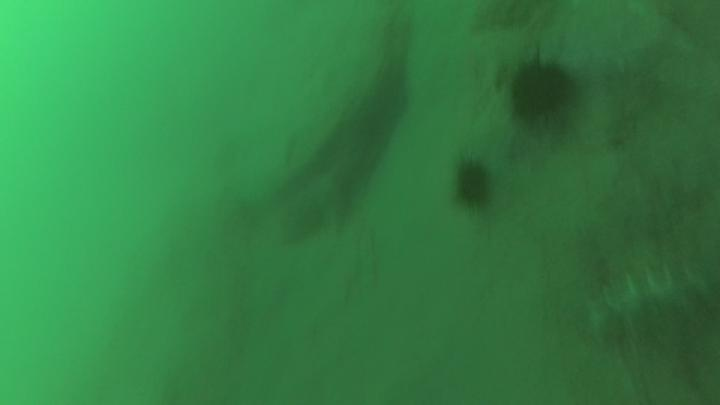echinus: (491, 42, 586, 132), (445, 146, 506, 217)
holothurian: (580, 263, 720, 350)
